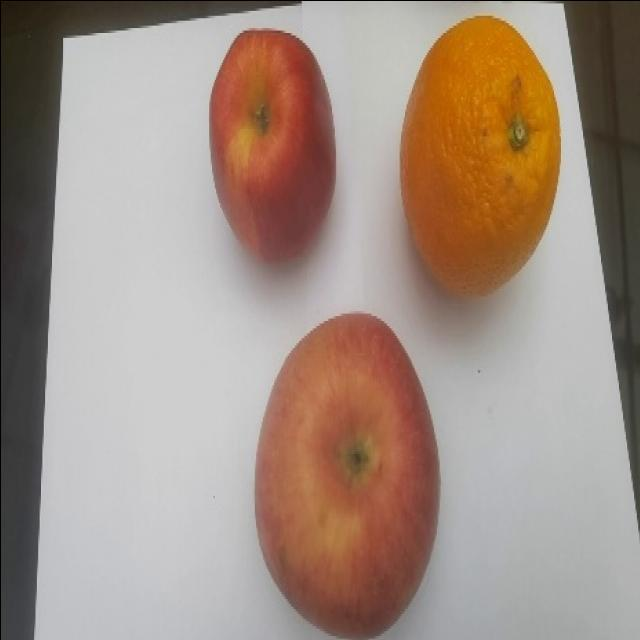Apple: (253, 311, 441, 638), (208, 27, 337, 264)
Orange: (398, 14, 561, 296)
